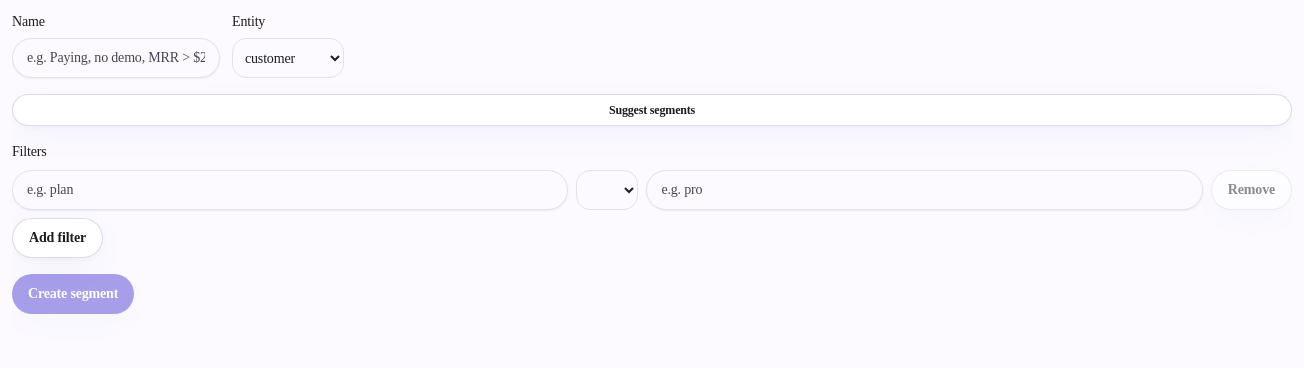
Test: CreateSegmentForm › shows an inline error and does not refresh when the request fails
Type "Pro customers" into the field labelled "Name" at (116, 58), box [12, 38, 220, 78]
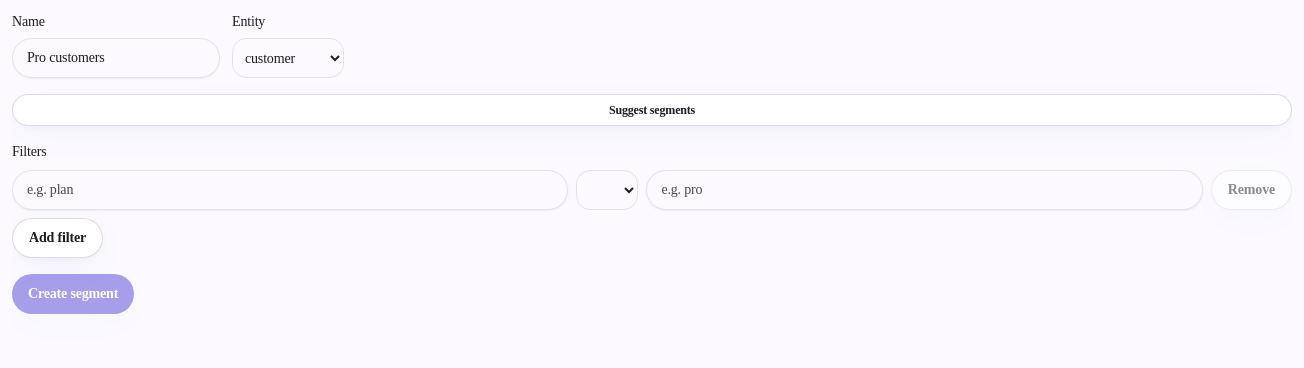
Type "plan" into the field named "Field" at (290, 190), box [12, 170, 568, 210]
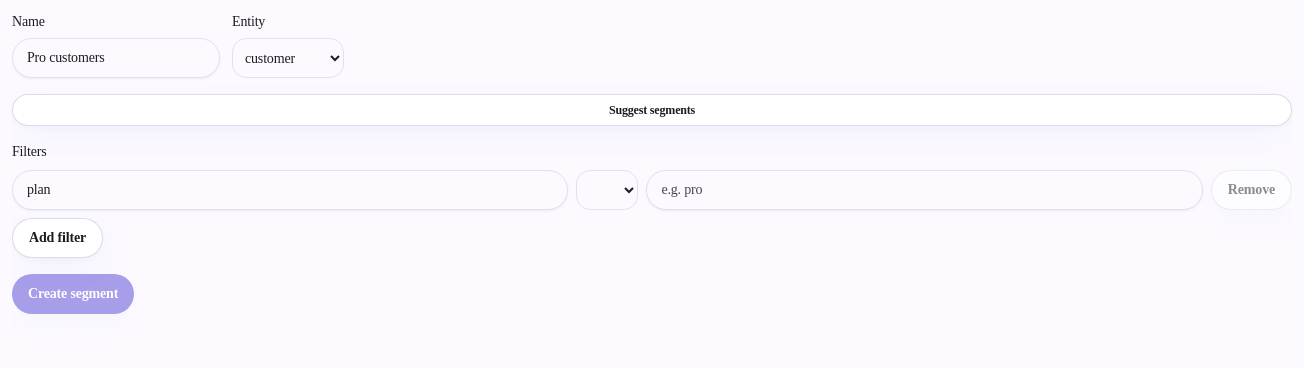
Type "pro" into the field named "Value" at (925, 190), box [646, 170, 1203, 210]
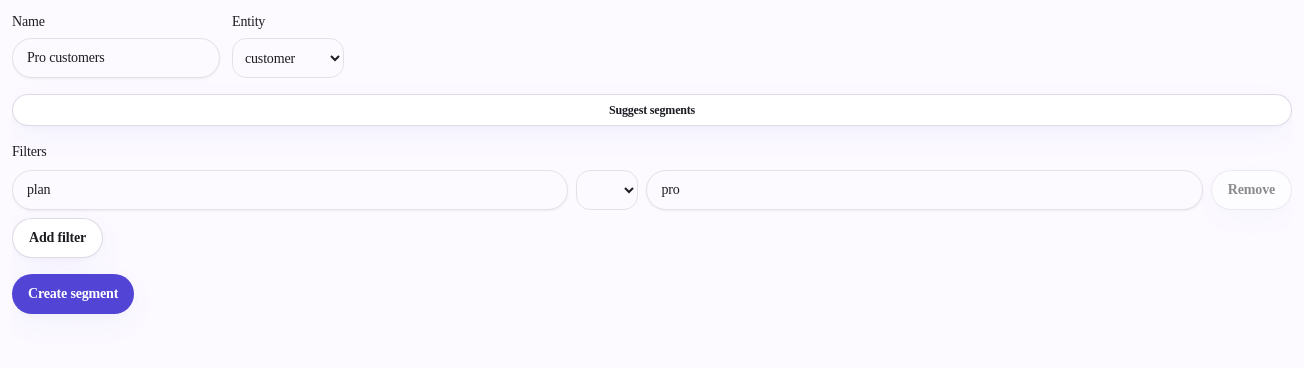
Click the button "Create segment" at (73, 294), box [12, 274, 134, 314]
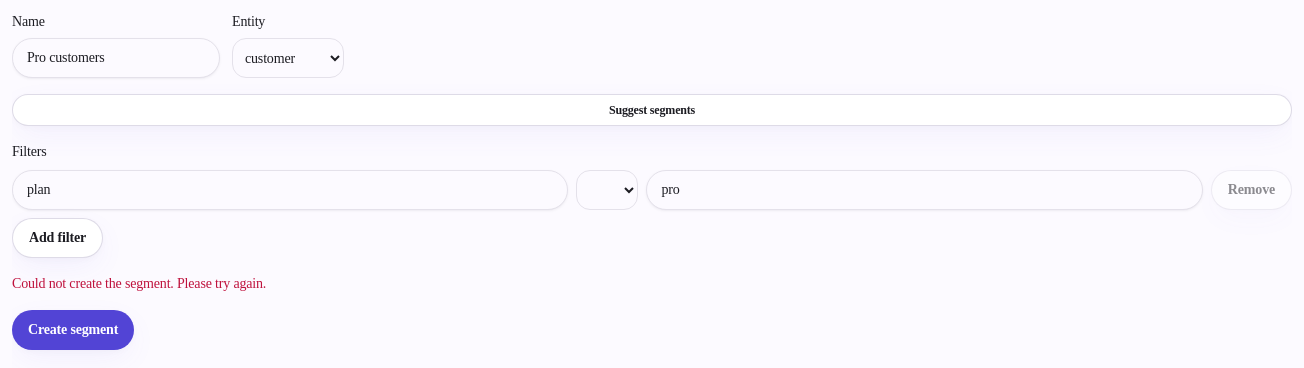
Expected: the message reads "Could not create the segment. Please try again.", [12, 276, 266, 291]
